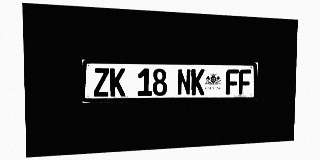1: (137, 68, 152, 96)
8: (153, 68, 167, 96)
F: (226, 69, 239, 95), (238, 69, 251, 94)
K: (110, 68, 125, 96), (191, 69, 205, 95)
N: (177, 69, 191, 95)
Z: (93, 68, 109, 97)
